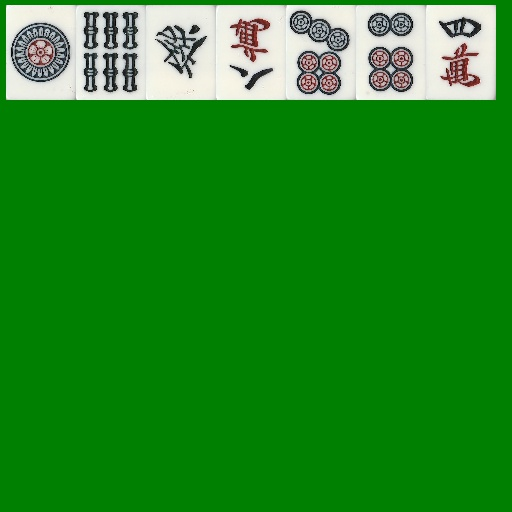1p: (6, 5, 76, 100)
4m: (426, 5, 496, 100)
6p: (356, 5, 426, 100)
6s: (76, 5, 146, 100)
7p: (286, 5, 356, 100)
8m: (216, 5, 286, 100)
hatsu: (146, 5, 216, 100)
